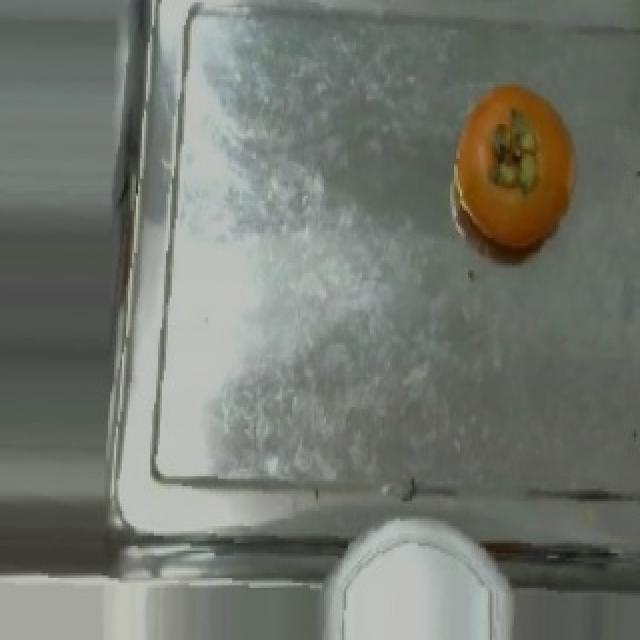Fruit: (442, 67, 596, 268), (332, 531, 508, 640), (0, 545, 172, 640)
